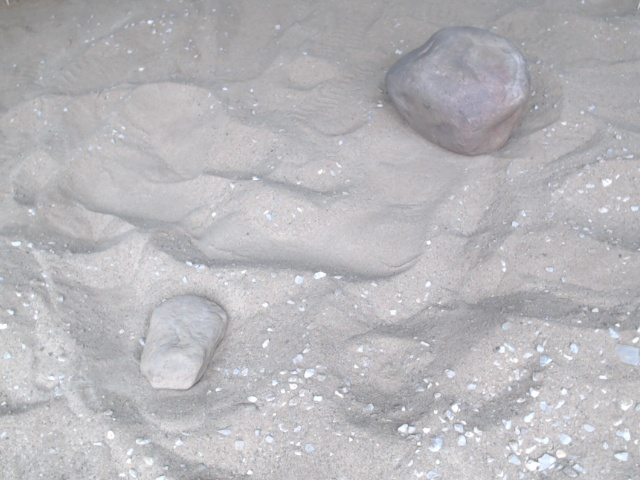rock: (381, 21, 536, 160), (134, 290, 234, 395)
